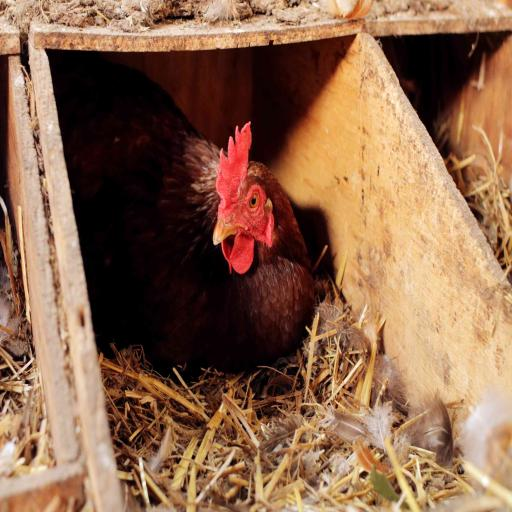healthy: (204, 108, 294, 295), (293, 296, 294, 298)
